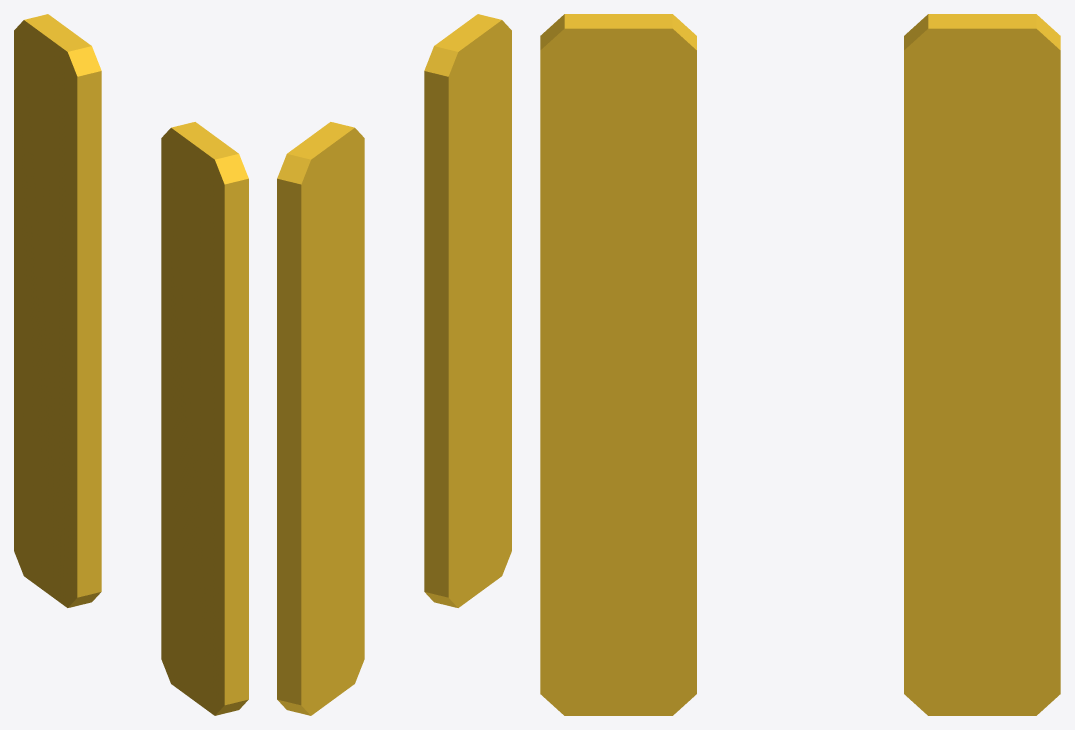
Rendered from Wall Stickers.fbx.
3 renders of one model, left to right at view 1: azimuth 30°, elevation 25°; view 2: azimuth 150°, elevation 25°; view 3: azimuth 270°, elevation 25°, orthographic. The views are drawn at different scales.
Parts seen in each view (by area): view 1: Wall Stickers; view 2: Wall Stickers; view 3: Wall Stickers.
Boxes of the visible parts, x1=… form: Wall Stickers: x1=14, y1=14, x2=248, y2=715; Wall Stickers: x1=277, y1=14, x2=511, y2=715; Wall Stickers: x1=540, y1=14, x2=1060, y2=715.
Size of the model in its own units: 0.0268 by 0.5864 by 0.4023.
